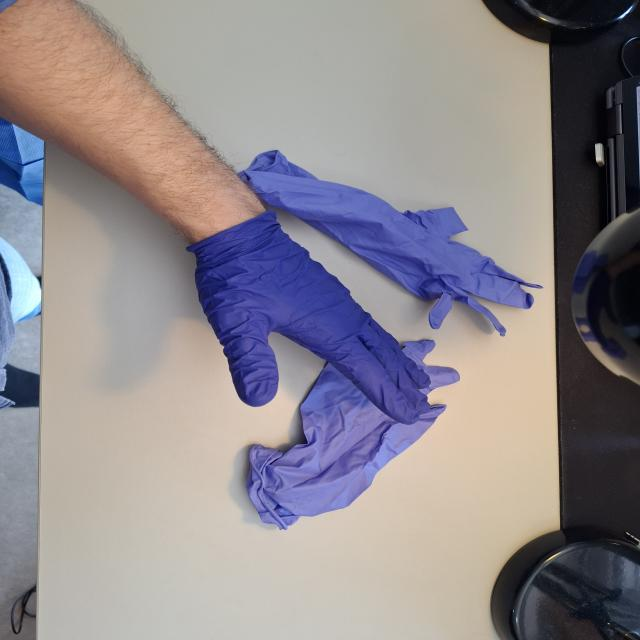glove_on: (184, 208, 433, 428)
